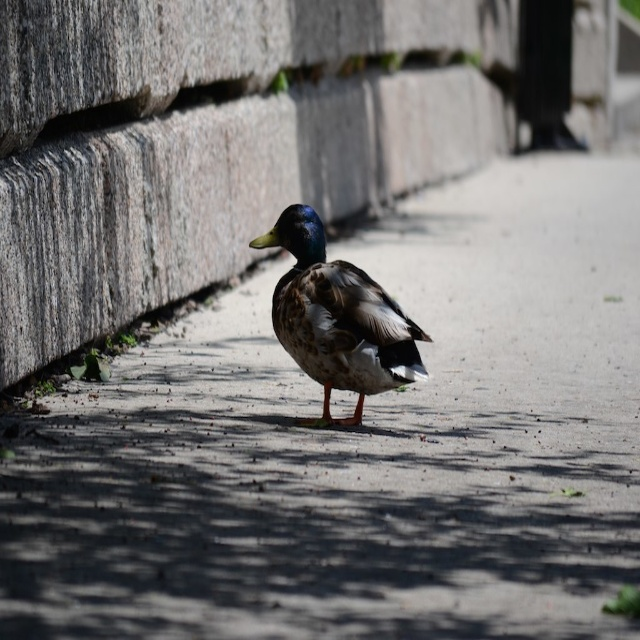Goose: (249, 199, 438, 427)
